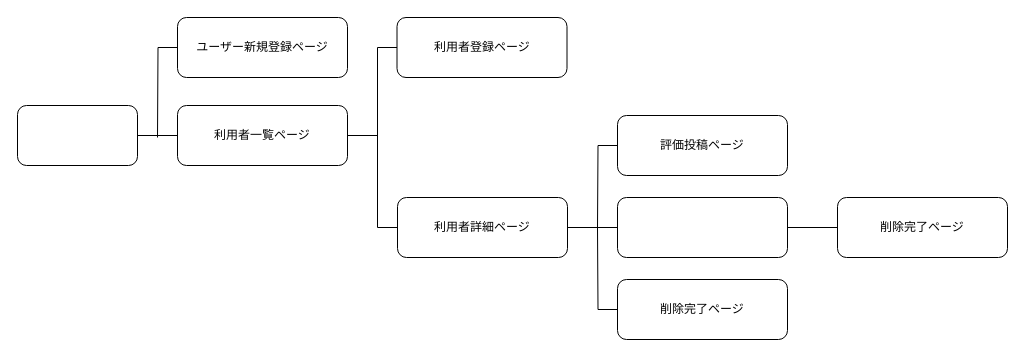
This 1025x357 diagram has some shape labels left out. The centre of each missing label's shape, as x and y in pixels:
"ログインページ" goes at point 77,135.
"評価詳細ページ" goes at point 702,227.
